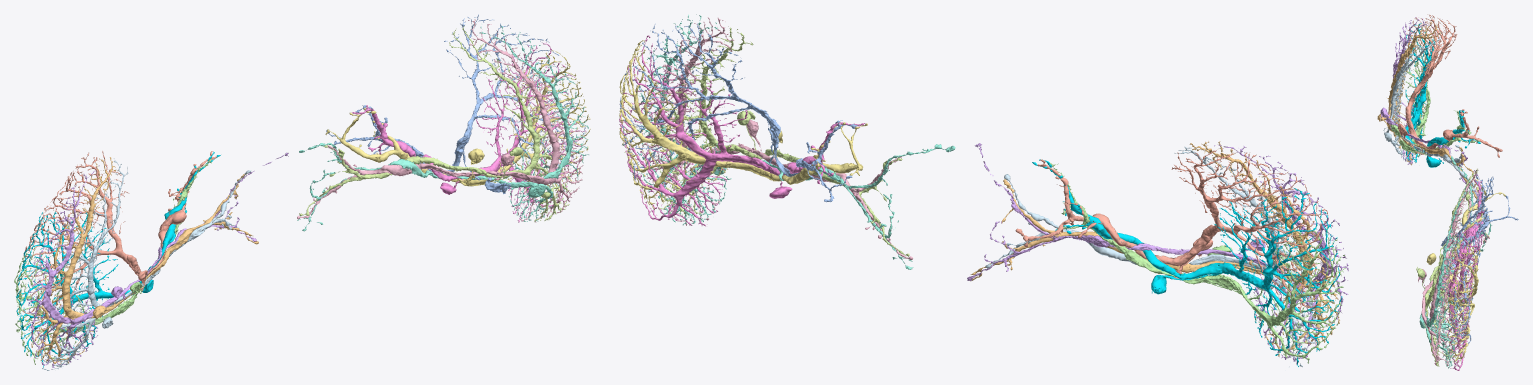
File: fly-neurons.glb
The picture shows the model from 3 angles, left to right: view 1: azimuth 30°, elevation 25°; view 2: azimuth 150°, elevation 25°; view 3: azimuth 270°, elevation 25°; orthographic projection. The views are drawn at different scales.
Visible parts, largest first — view 1: seg_720575940613126835, seg_720575940640722851, seg_720575940622312965, seg_720575940619878961, seg_720575940626477498, seg_720575940629148007, seg_720575940641812699, seg_720575940629153020, seg_720575940615933919, seg_720575940628743496, seg_720575940622831740, seg_720575940628031249; view 2: seg_720575940629153020, seg_720575940622312965, seg_720575940629148007, seg_720575940615933919, seg_720575940626477498, seg_720575940628031249, seg_720575940640722851, seg_720575940628743496, seg_720575940613126835, seg_720575940619878961, seg_720575940622831740, seg_720575940641812699; view 3: seg_720575940622312965, seg_720575940615933919, seg_720575940629148007, seg_720575940619878961, seg_720575940613126835, seg_720575940628743496, seg_720575940629153020, seg_720575940622831740, seg_720575940640722851, seg_720575940641812699, seg_720575940628031249, seg_720575940626477498.
Boxes of the visible parts, x1,y1,x2,y2 form: seg_720575940613126835: [297, 19, 583, 222]; seg_720575940640722851: [31, 157, 258, 364]; seg_720575940622312965: [22, 151, 216, 313]; seg_720575940619878961: [297, 25, 588, 231]; seg_720575940626477498: [27, 152, 288, 369]; seg_720575940629148007: [352, 42, 586, 222]; seg_720575940641812699: [299, 26, 571, 221]; seg_720575940629153020: [16, 151, 220, 367]; seg_720575940615933919: [325, 50, 590, 196]; seg_720575940628743496: [326, 14, 585, 194]; seg_720575940622831740: [41, 158, 250, 370]; seg_720575940628031249: [14, 159, 211, 364]; seg_720575940629153020: [1032, 159, 1342, 366]; seg_720575940622312965: [1015, 150, 1328, 313]; seg_720575940629148007: [619, 35, 865, 226]; seg_720575940615933919: [619, 40, 867, 209]; seg_720575940626477498: [967, 143, 1348, 364]; seg_720575940628031249: [1049, 163, 1345, 363]; seg_720575940640722851: [970, 141, 1339, 356]; seg_720575940628743496: [619, 23, 857, 202]; seg_720575940613126835: [641, 17, 912, 259]; seg_720575940619878961: [636, 14, 955, 269]; seg_720575940622831740: [985, 146, 1316, 367]; seg_720575940641812699: [656, 26, 909, 256]; seg_720575940622312965: [1398, 14, 1502, 157]; seg_720575940615933919: [1426, 171, 1505, 362]; seg_720575940629148007: [1440, 172, 1489, 370]; seg_720575940619878961: [1419, 156, 1492, 368]; seg_720575940613126835: [1418, 169, 1489, 366]; seg_720575940628743496: [1429, 176, 1518, 344]; seg_720575940629153020: [1403, 23, 1480, 167]; seg_720575940622831740: [1383, 37, 1477, 197]; seg_720575940640722851: [1377, 22, 1481, 228]; seg_720575940641812699: [1416, 168, 1488, 366]; seg_720575940628031249: [1390, 45, 1479, 156]; seg_720575940626477498: [1380, 17, 1484, 228].
Size of the model in its own units: 4 by 1.38 by 0.9393.
